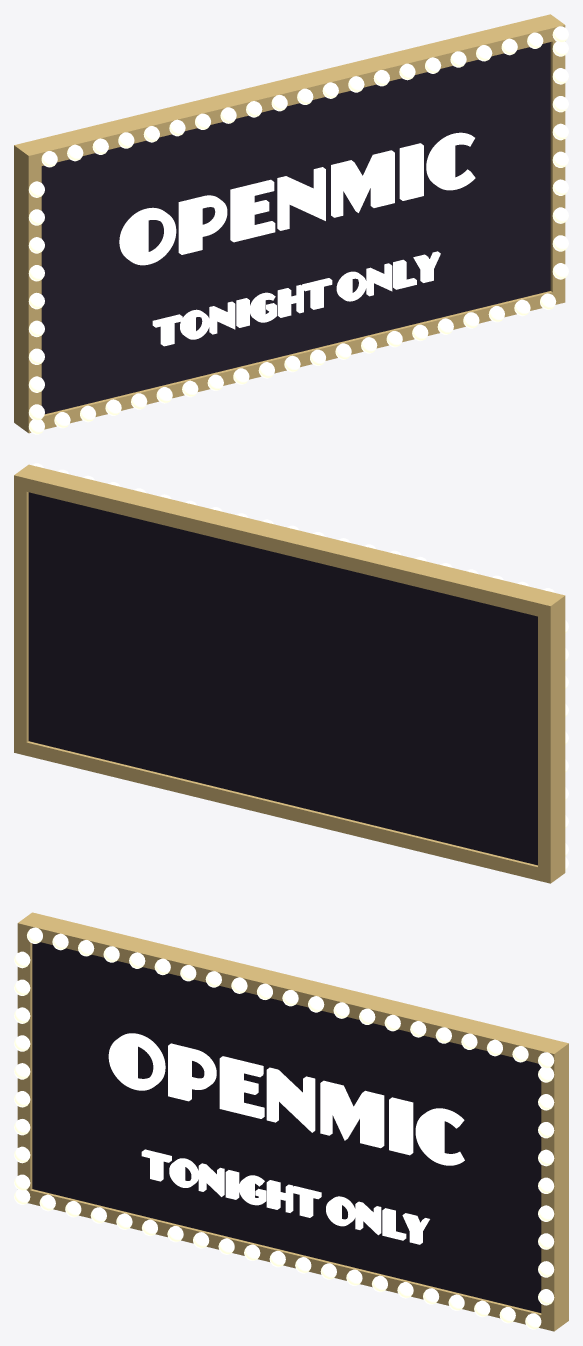
Rendered from marquee.glb.
The picture shows the model from 3 angles, top to bottom: view 1: azimuth 30°, elevation 25°; view 2: azimuth 150°, elevation 25°; view 3: azimuth 330°, elevation 25°; orthographic projection.
Visible parts, largest first — view 1: Panel, Line1, BezelTop, Line2, BezelLeft, BezelBottom, BezelRight; view 2: Panel, BezelTop, BezelBottom, BezelLeft, BezelRight; view 3: Panel, Line1, BezelTop, Line2, BezelRight, BezelBottom, BezelLeft.
Part boxes in pixels (x1=…): Panel: x1=41, y1=42, x2=550, y2=414; Line1: x1=119, y1=132, x2=475, y2=265; BezelTop: x1=14, y1=14, x2=565, y2=169; Line2: x1=152, y1=251, x2=440, y2=346; BezelLeft: x1=14, y1=159, x2=41, y2=419; BezelBottom: x1=14, y1=289, x2=565, y2=433; BezelRight: x1=550, y1=41, x2=565, y2=292; Panel: x1=28, y1=492, x2=537, y2=865; BezelTop: x1=14, y1=464, x2=565, y2=619; BezelBottom: x1=14, y1=739, x2=565, y2=883; BezelLeft: x1=538, y1=609, x2=565, y2=870; BezelRight: x1=14, y1=488, x2=28, y2=742; Panel: x1=32, y1=942, x2=541, y2=1312; Line1: x1=108, y1=1033, x2=464, y2=1165; BezelTop: x1=17, y1=912, x2=568, y2=1067; Line2: x1=141, y1=1149, x2=429, y2=1244; BezelRight: x1=541, y1=1057, x2=568, y2=1317; BezelBottom: x1=26, y1=1189, x2=568, y2=1331; BezelLeft: x1=17, y1=936, x2=32, y2=1190.
Size of the model in its own units: 3.37 by 1.67 by 0.223.
